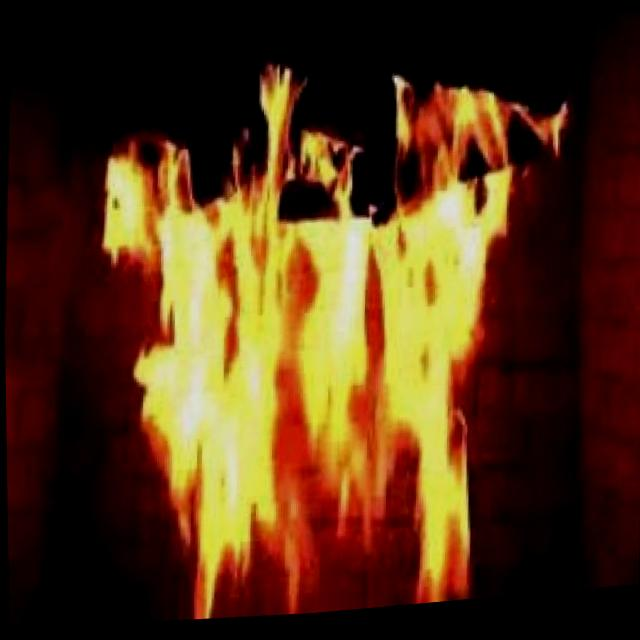helmet: (79, 32, 592, 635)
